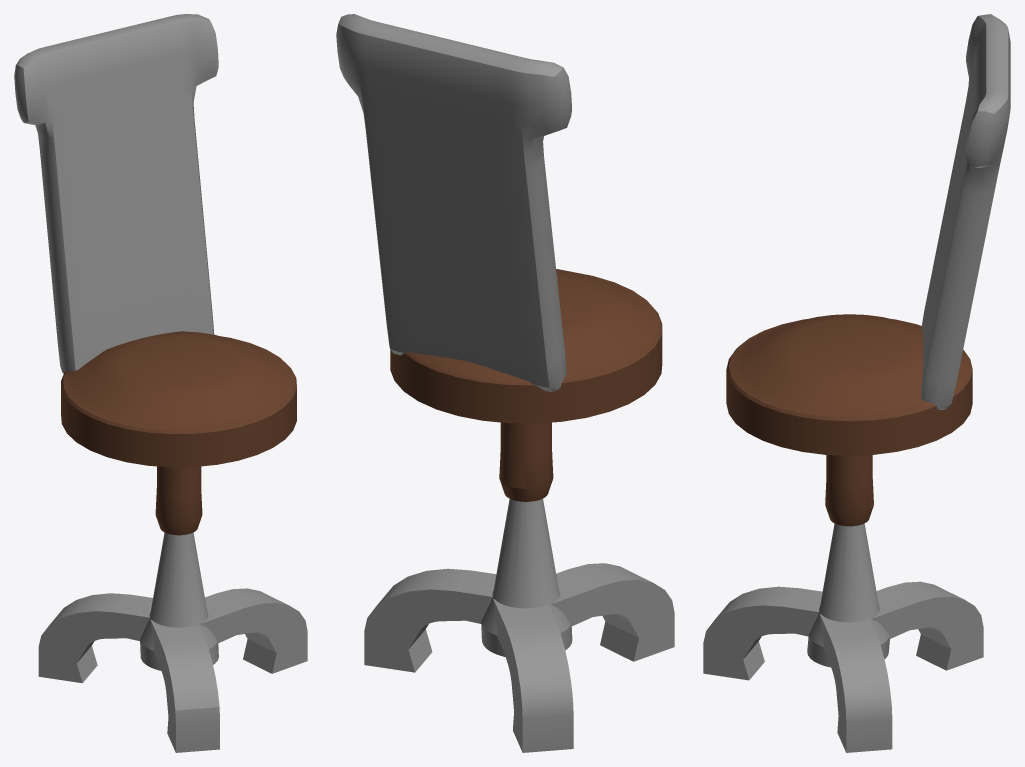
The model's file is chair5.fbx.
3 views of the same model, side by side, from view 1: azimuth 30°, elevation 25°; view 2: azimuth 150°, elevation 25°; view 3: azimuth 270°, elevation 25° (orthographic). The views are drawn at different scales.
Visible parts, largest first — view 1: Chair5; view 2: Chair5; view 3: Chair5.
Part boxes in pixels (left/top/right/bottom): Chair5: left=14, top=14, right=307, bottom=752; Chair5: left=336, top=14, right=674, bottom=752; Chair5: left=703, top=14, right=1010, bottom=752.
Size of the model in its own units: 38.06 by 96.17 by 42.4.
